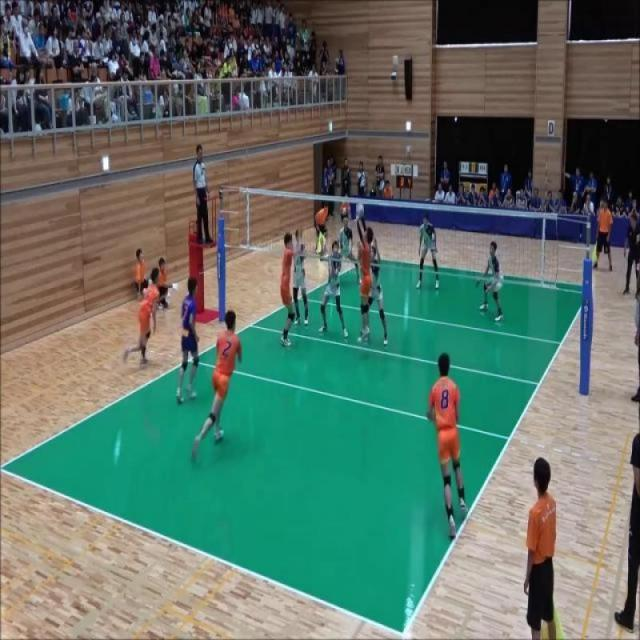volleyball: (355, 203, 365, 218)
